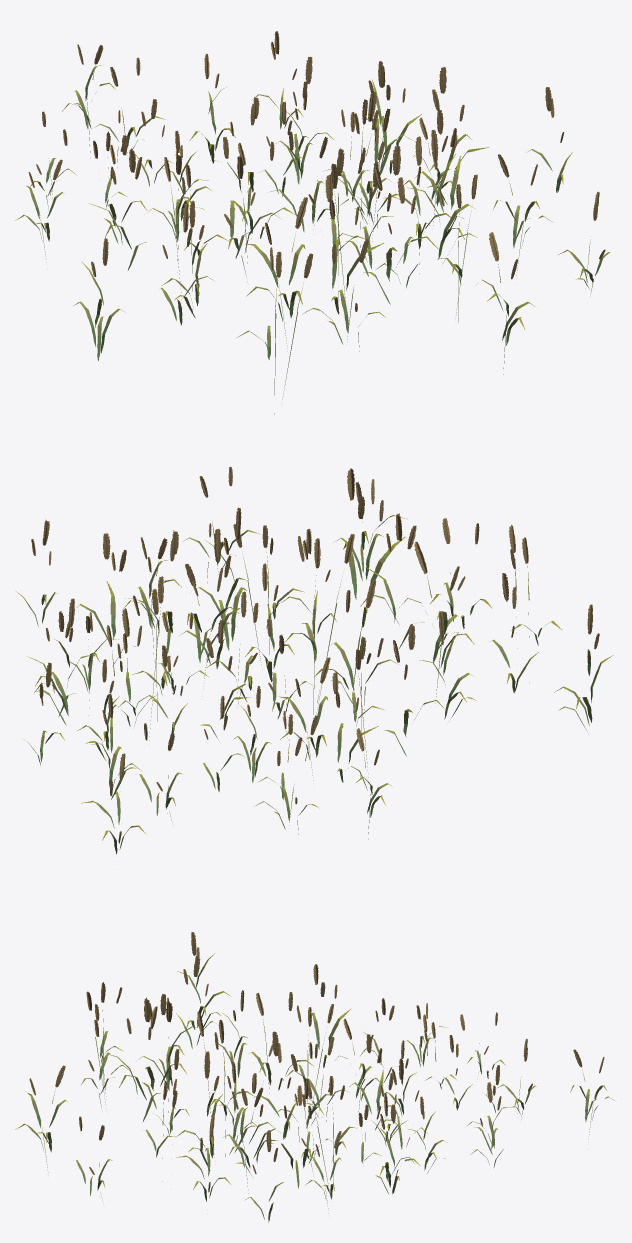
Rendered from gi-Wheat02.glb.
The picture shows the model from 3 angles, top to bottom: view 1: azimuth 30°, elevation 25°; view 2: azimuth 150°, elevation 25°; view 3: azimuth 270°, elevation 25°; orthographic projection. The views are drawn at different scales.
Parts seen in each view (by area): view 1: gi-Wheat02; view 2: gi-Wheat02; view 3: gi-Wheat02.
Part boxes in pixels (x1,y1,x2,y2): gi-Wheat02: (15, 31, 610, 414); gi-Wheat02: (16, 467, 613, 854); gi-Wheat02: (15, 932, 614, 1222).
Size of the model in its own units: 3.97 by 1.68 by 4.7.
Materials: 1 (1 with a texture image).
